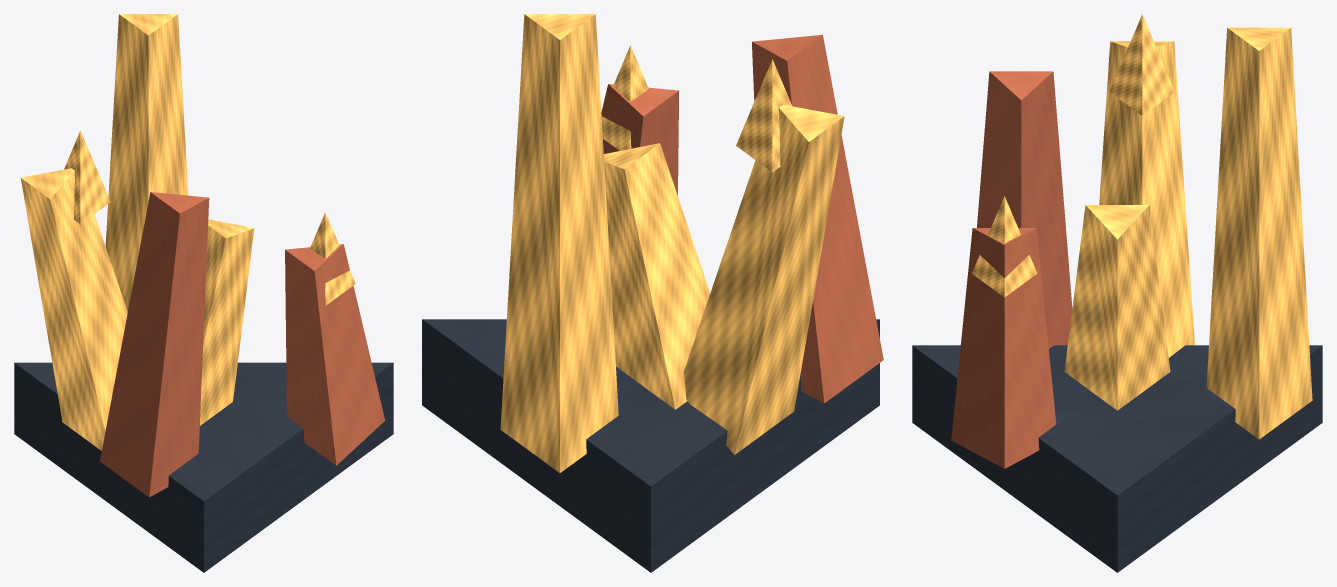
The model's file is atlas100-s021-a04.lod2.glb.
The picture shows the model from 3 angles, left to right: view 1: azimuth 30°, elevation 25°; view 2: azimuth 150°, elevation 25°; view 3: azimuth 270°, elevation 25°; orthographic projection. The views are drawn at different scales.
Visible parts, largest first — view 1: atlas100-s021-a04:part-000, atlas100-s021-a04:part-003, atlas100-s021-a04:part-009, atlas100-s021-a04:part-005, atlas100-s021-a04:part-007, atlas100-s021-a04:part-001, atlas100-s021-a04:part-010, atlas100-s021-a04:part-008; view 2: atlas100-s021-a04:part-005, atlas100-s021-a04:part-000, atlas100-s021-a04:part-009, atlas100-s021-a04:part-001, atlas100-s021-a04:part-003, atlas100-s021-a04:part-007, atlas100-s021-a04:part-010, atlas100-s021-a04:part-008; view 3: atlas100-s021-a04:part-000, atlas100-s021-a04:part-005, atlas100-s021-a04:part-007, atlas100-s021-a04:part-001, atlas100-s021-a04:part-003, atlas100-s021-a04:part-009, atlas100-s021-a04:part-010, atlas100-s021-a04:part-008.
Boxes of the visible parts, box(x1,y1,x2,y2) form: atlas100-s021-a04:part-000: box(14, 362, 393, 572); atlas100-s021-a04:part-003: box(100, 192, 209, 497); atlas100-s021-a04:part-009: box(20, 168, 127, 450); atlas100-s021-a04:part-005: box(105, 14, 188, 311); atlas100-s021-a04:part-007: box(285, 244, 384, 465); atlas100-s021-a04:part-001: box(200, 219, 254, 425); atlas100-s021-a04:part-010: box(64, 130, 110, 224); atlas100-s021-a04:part-008: box(310, 212, 355, 305); atlas100-s021-a04:part-005: box(500, 14, 618, 472); atlas100-s021-a04:part-000: box(422, 319, 879, 572); atlas100-s021-a04:part-009: box(684, 104, 844, 454); atlas100-s021-a04:part-001: box(603, 143, 710, 409); atlas100-s021-a04:part-003: box(752, 34, 883, 403); atlas100-s021-a04:part-007: box(601, 84, 679, 195); atlas100-s021-a04:part-010: box(736, 59, 791, 172); atlas100-s021-a04:part-008: box(601, 45, 648, 150); atlas100-s021-a04:part-000: box(912, 345, 1322, 572); atlas100-s021-a04:part-005: box(1206, 27, 1312, 439); atlas100-s021-a04:part-007: box(951, 228, 1056, 468); atlas100-s021-a04:part-001: box(1064, 205, 1170, 410); atlas100-s021-a04:part-003: box(977, 71, 1072, 348); atlas100-s021-a04:part-009: box(1099, 41, 1194, 357); atlas100-s021-a04:part-010: box(1109, 14, 1174, 115); atlas100-s021-a04:part-008: box(972, 196, 1037, 297).
Size of the model in its own units: 0.9772 by 1.1 by 0.9258.
3 materials, 3 textured.
